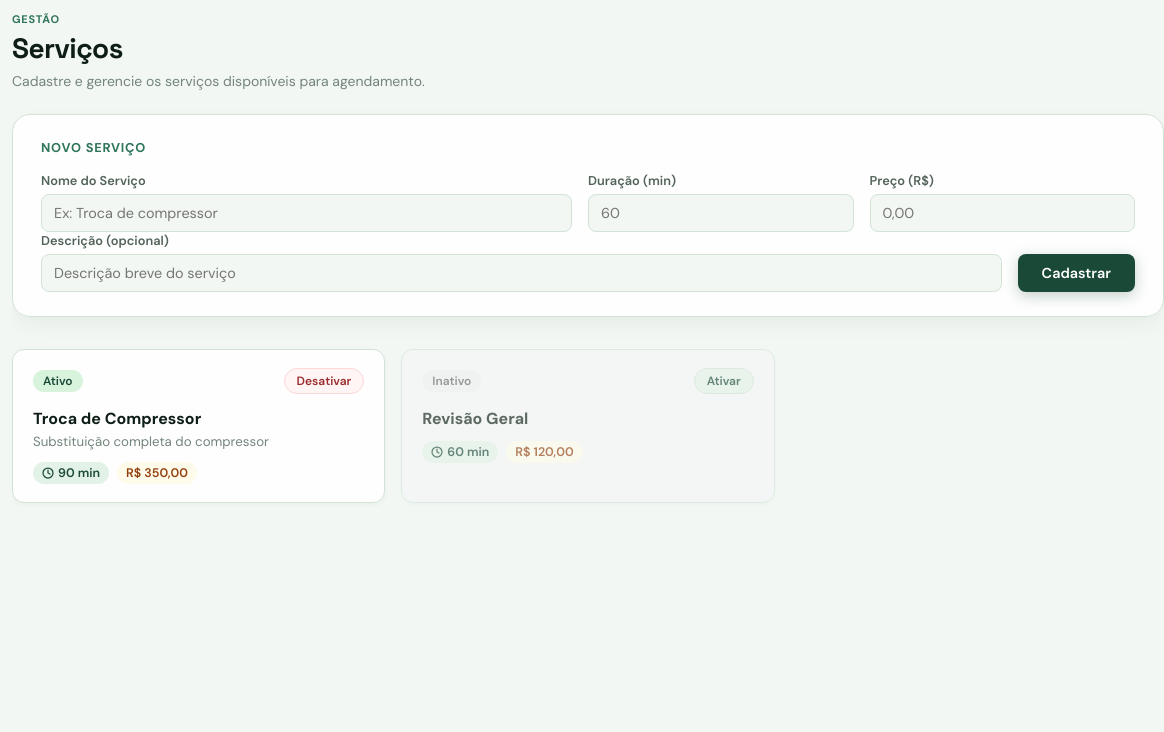
ServicesPage › valida campos obrigatórios ao tentar cadastrar
The image size is (1164, 732).
Expected: the text "Troca de Compressor" is shown, x1=33 y1=408 x2=201 y2=429
What coordinates should you click on to do the following:
click the button "Cadastrar"
I would click on:
 (1076, 273)
Its box is x1=1018 y1=254 x2=1135 y2=292.
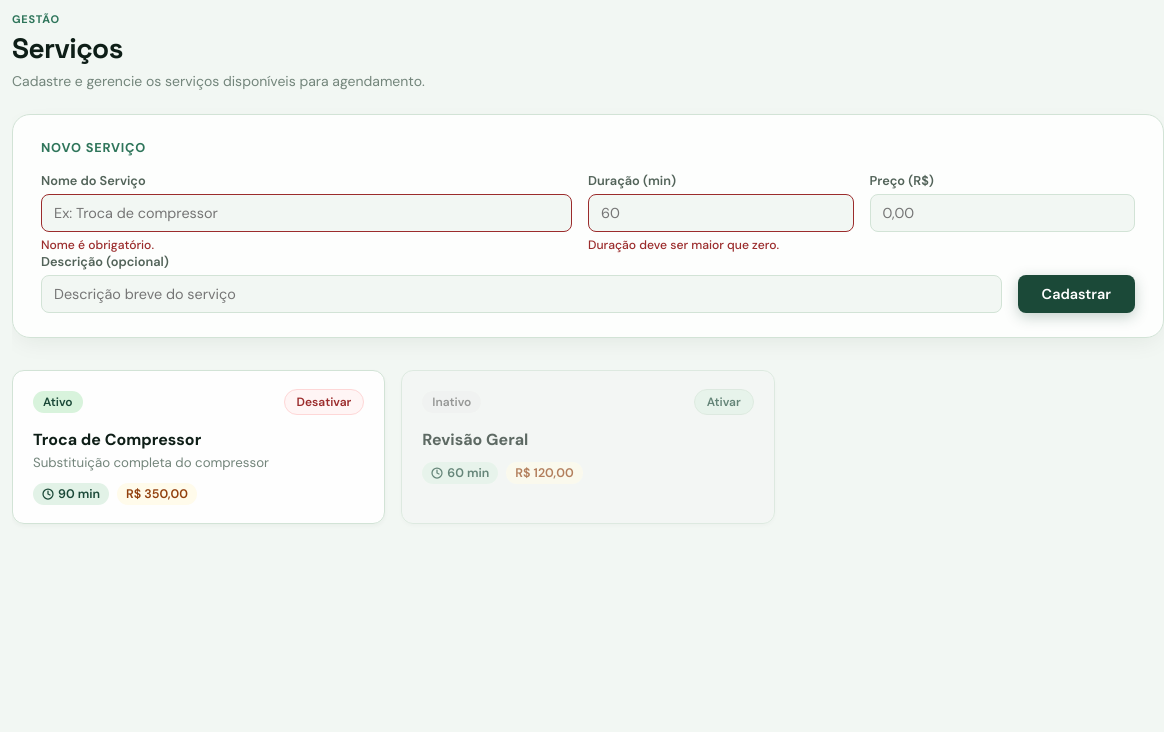
Expected: the text "Nome é obrigatório." is shown, x1=41 y1=237 x2=154 y2=253
Expected: the text "Duração deve ser maior que zero." is shown, x1=588 y1=237 x2=779 y2=253
